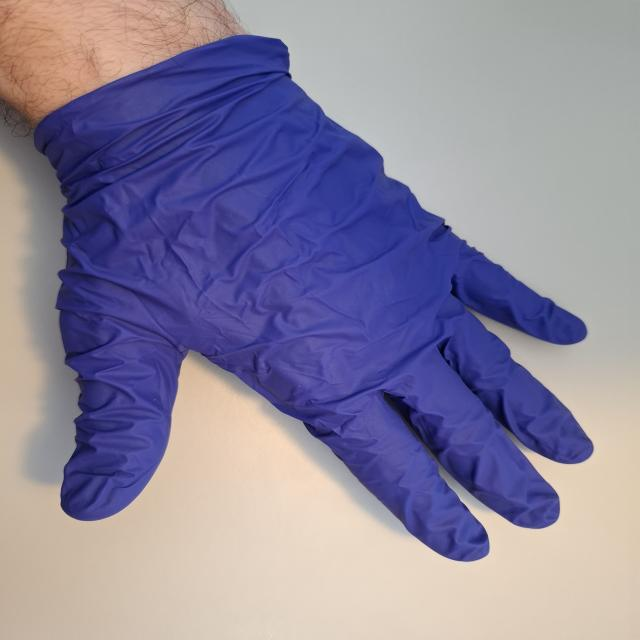glove_on: (34, 37, 598, 565)
